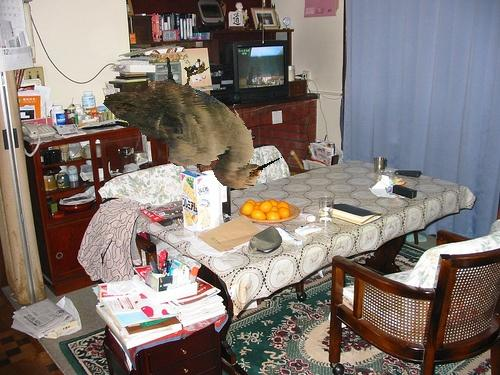tampered: (104, 58, 285, 190)
